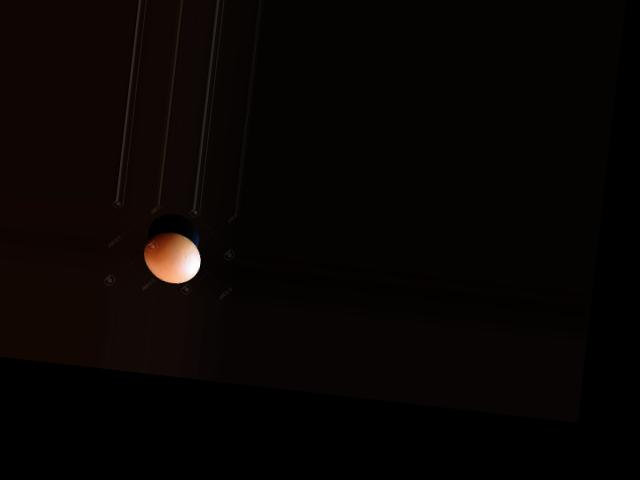egg: (140, 228, 203, 285)
